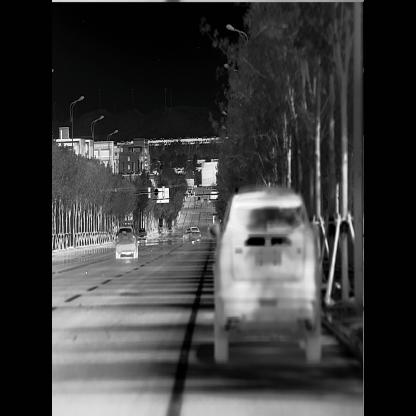car: (204, 182, 330, 373), (113, 222, 142, 261), (183, 224, 202, 244), (137, 226, 148, 245), (186, 184, 196, 198), (197, 193, 202, 202)
